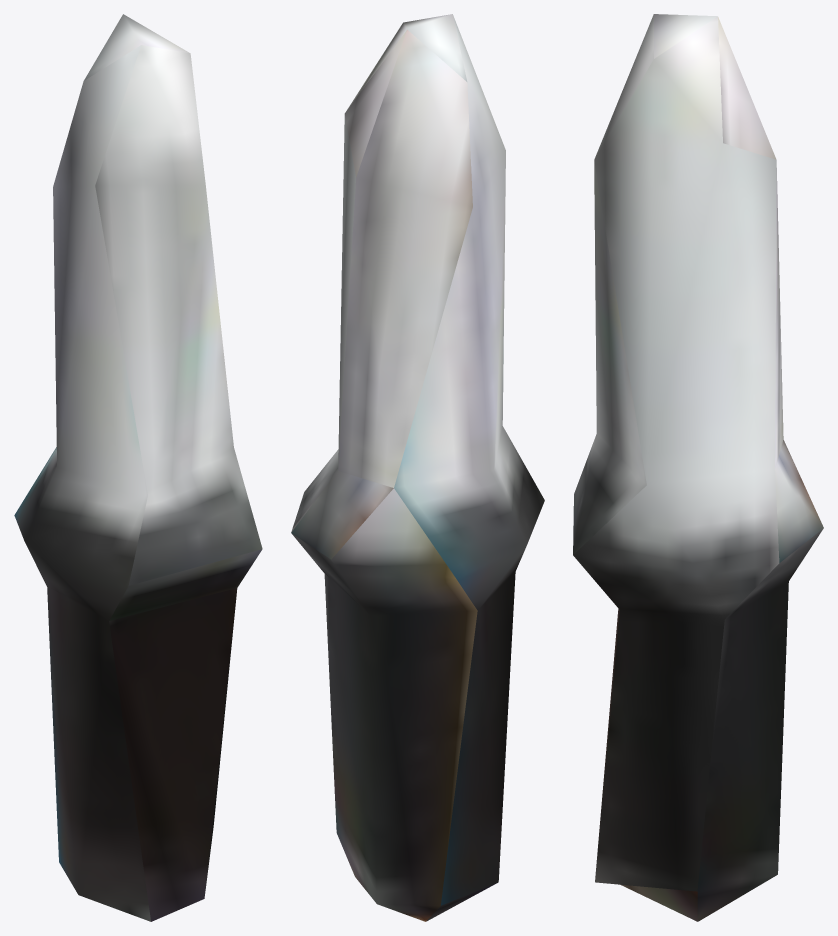
The model's file is dagger_short.glb.
3 views of the same model, side by side, from view 1: azimuth 30°, elevation 25°; view 2: azimuth 150°, elevation 25°; view 3: azimuth 270°, elevation 25° (orthographic).
Parts seen in each view (by area): view 1: mallet; view 2: mallet; view 3: mallet.
Boxes of the visible parts, <box> form: mallet: <box>14,14,262,921</box>; mallet: <box>291,14,544,921</box>; mallet: <box>573,14,823,921</box>.
Size of the model in its own units: 0.0313 by 0.1191 by 0.0304.
Materials: 1 (1 with a texture image).
